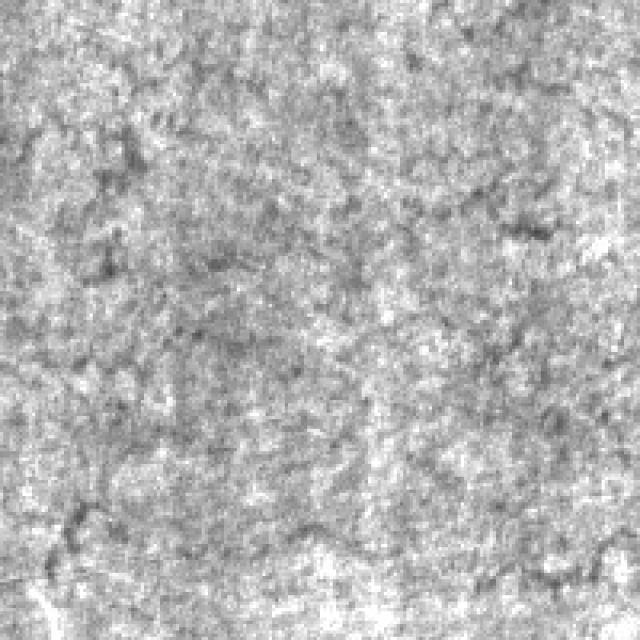crazing: (19, 288, 611, 582), (13, 12, 621, 282)
